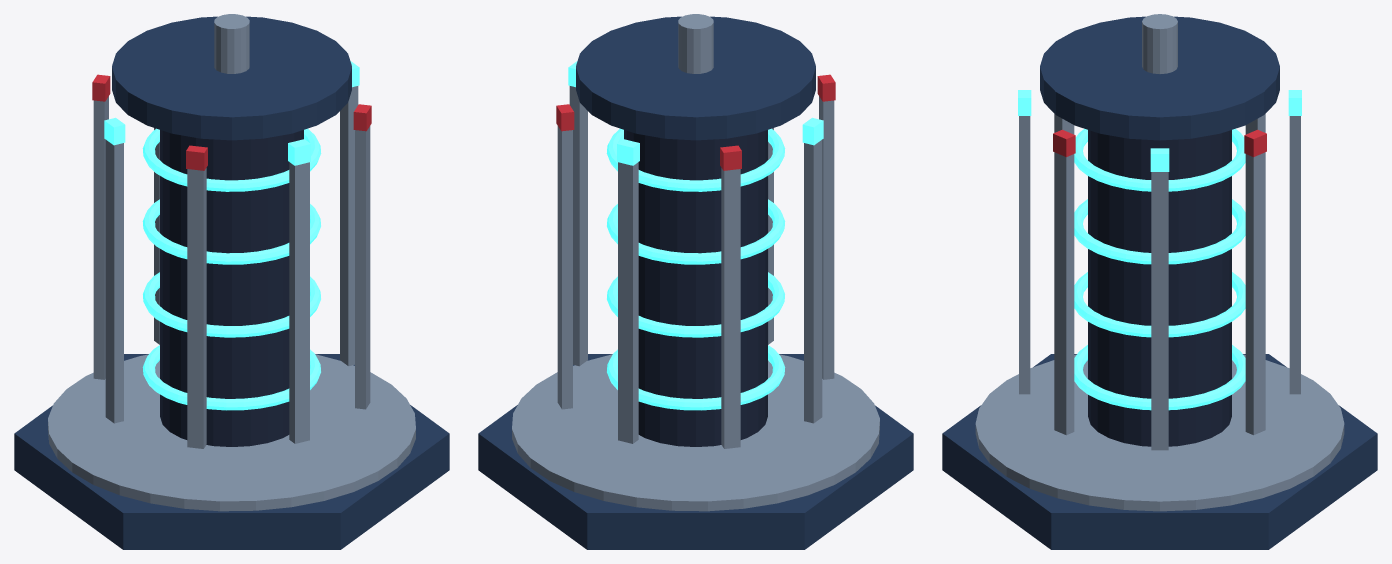
The model's file is rt_data_core.glb.
The picture shows the model from 3 angles, left to right: view 1: azimuth 30°, elevation 25°; view 2: azimuth 150°, elevation 25°; view 3: azimuth 270°, elevation 25°; orthographic projection.
Parts seen in each view (by area): view 1: rt_data_core; view 2: rt_data_core; view 3: rt_data_core.
Part boxes in pixels (<box>): rt_data_core: <box>14,14,449,549</box>; rt_data_core: <box>478,14,913,549</box>; rt_data_core: <box>942,14,1377,549</box>.
Bounding box in the file's own units: 3.98 × 5.24 × 4.6.
